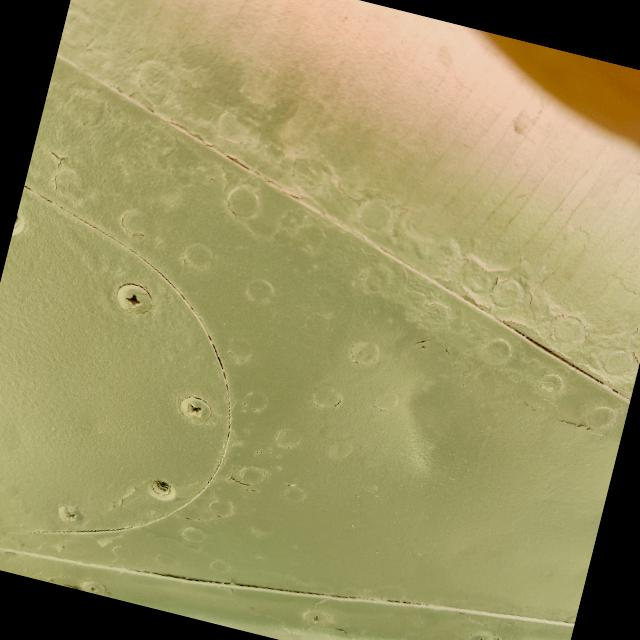dent: (354, 337, 512, 510)
